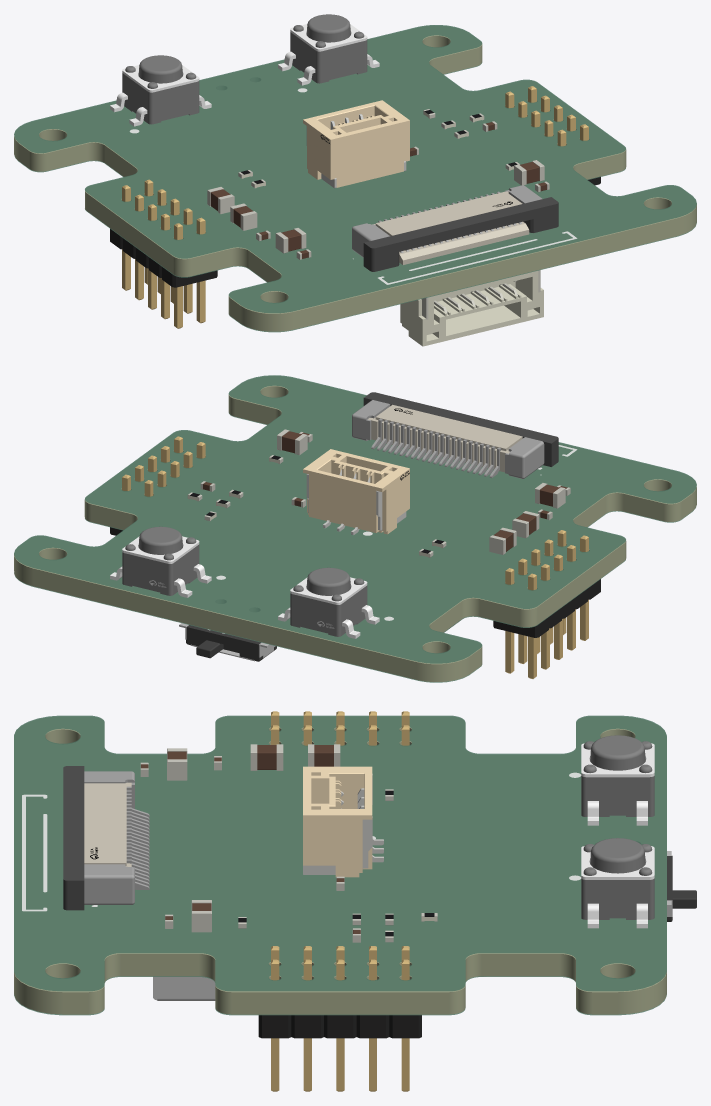
File: BugBot_Vision_Board.glb
3 views of the same model, one above another, from view 1: azimuth 30°, elevation 25°; view 2: azimuth 150°, elevation 25°; view 3: azimuth 270°, elevation 25° (orthographic). The views are drawn at different scales.
Visible parts, largest first — view 1: =>[0:1:1:150], =>[0:1:1:148], =>[0:1:1:7], =>[0:1:1:13] (×2), =>[0:1:1:9], =>[0:1:1:19] (×2), =>[0:1:1:15], =>[0:1:1:3] (×4), =>[0:1:1:149], =>[0:1:1:146]; view 2: =>[0:1:1:150], =>[0:1:1:148], =>[0:1:1:7], =>[0:1:1:13] (×2), =>[0:1:1:9], =>[0:1:1:19] (×2), =>[0:1:1:3] (×4), =>[0:1:1:17], =>[0:1:1:149]; view 3: =>[0:1:1:150], =>[0:1:1:148], =>[0:1:1:13] (×2), =>[0:1:1:7], =>[0:1:1:19] (×2), =>[0:1:1:9], =>[0:1:1:3] (×4), ESP32-P4-MODULE屏蔽罩, =>[0:1:1:146], =>[0:1:1:149], =>[0:1:1:17].
Boxes of the visible parts, <box> form: =>[0:1:1:150]: <box>14,26,696,331</box>; =>[0:1:1:148]: <box>14,25,696,313</box>; =>[0:1:1:7]: <box>352,185,558,271</box>; =>[0:1:1:13] (×2): <box>110,14,379,126</box>; =>[0:1:1:9]: <box>303,100,409,188</box>; =>[0:1:1:19] (×2): <box>110,86,600,328</box>; =>[0:1:1:15]: <box>400,270,543,346</box>; =>[0:1:1:3] (×4): <box>207,160,544,253</box>; =>[0:1:1:149]: <box>14,62,696,332</box>; =>[0:1:1:146]: <box>129,88,577,284</box>; =>[0:1:1:150]: <box>14,376,696,682</box>; =>[0:1:1:148]: <box>14,375,696,663</box>; =>[0:1:1:7]: <box>352,392,558,478</box>; =>[0:1:1:13] (×2): <box>110,526,379,638</box>; =>[0:1:1:9]: <box>303,449,409,534</box>; =>[0:1:1:19] (×2): <box>110,436,600,678</box>; =>[0:1:1:3] (×4): <box>277,429,565,554</box>; =>[0:1:1:17]: <box>179,623,276,661</box>; =>[0:1:1:149]: <box>14,412,696,682</box>; =>[0:1:1:150]: <box>14,717,666,1014</box>; =>[0:1:1:148]: <box>14,715,666,991</box>; =>[0:1:1:13] (×2): <box>581,735,654,928</box>; =>[0:1:1:7]: <box>63,766,149,910</box>; =>[0:1:1:19] (×2): <box>258,711,421,1091</box>; =>[0:1:1:9]: <box>303,766,383,877</box>; =>[0:1:1:3] (×4): <box>167,744,340,932</box>; ESP32-P4-MODULE屏蔽罩: <box>153,977,215,1000</box>; =>[0:1:1:146]: <box>22,772,581,911</box>; =>[0:1:1:149]: <box>14,976,666,1015</box>; =>[0:1:1:17]: <box>667,851,696,921</box>.
Bounding box in the file's own units: 0.04 × 0.0119 × 0.0418.
